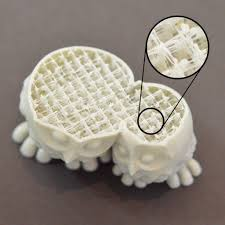fail: (37, 56, 121, 130), (147, 16, 212, 77)
